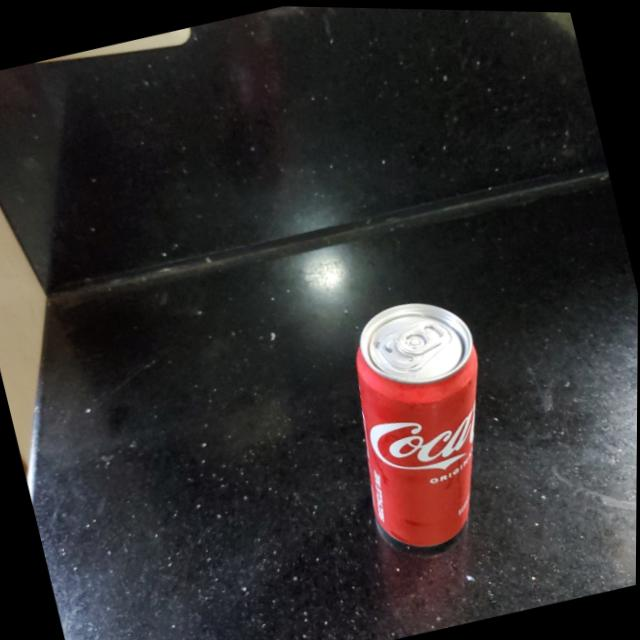coke: (330, 284, 527, 557)
